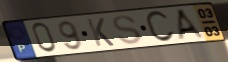0: (31, 21, 59, 55)
9: (57, 19, 84, 51)
A: (176, 7, 209, 41)
C: (144, 9, 177, 44)
K: (84, 17, 116, 48)
S: (111, 14, 144, 46)
